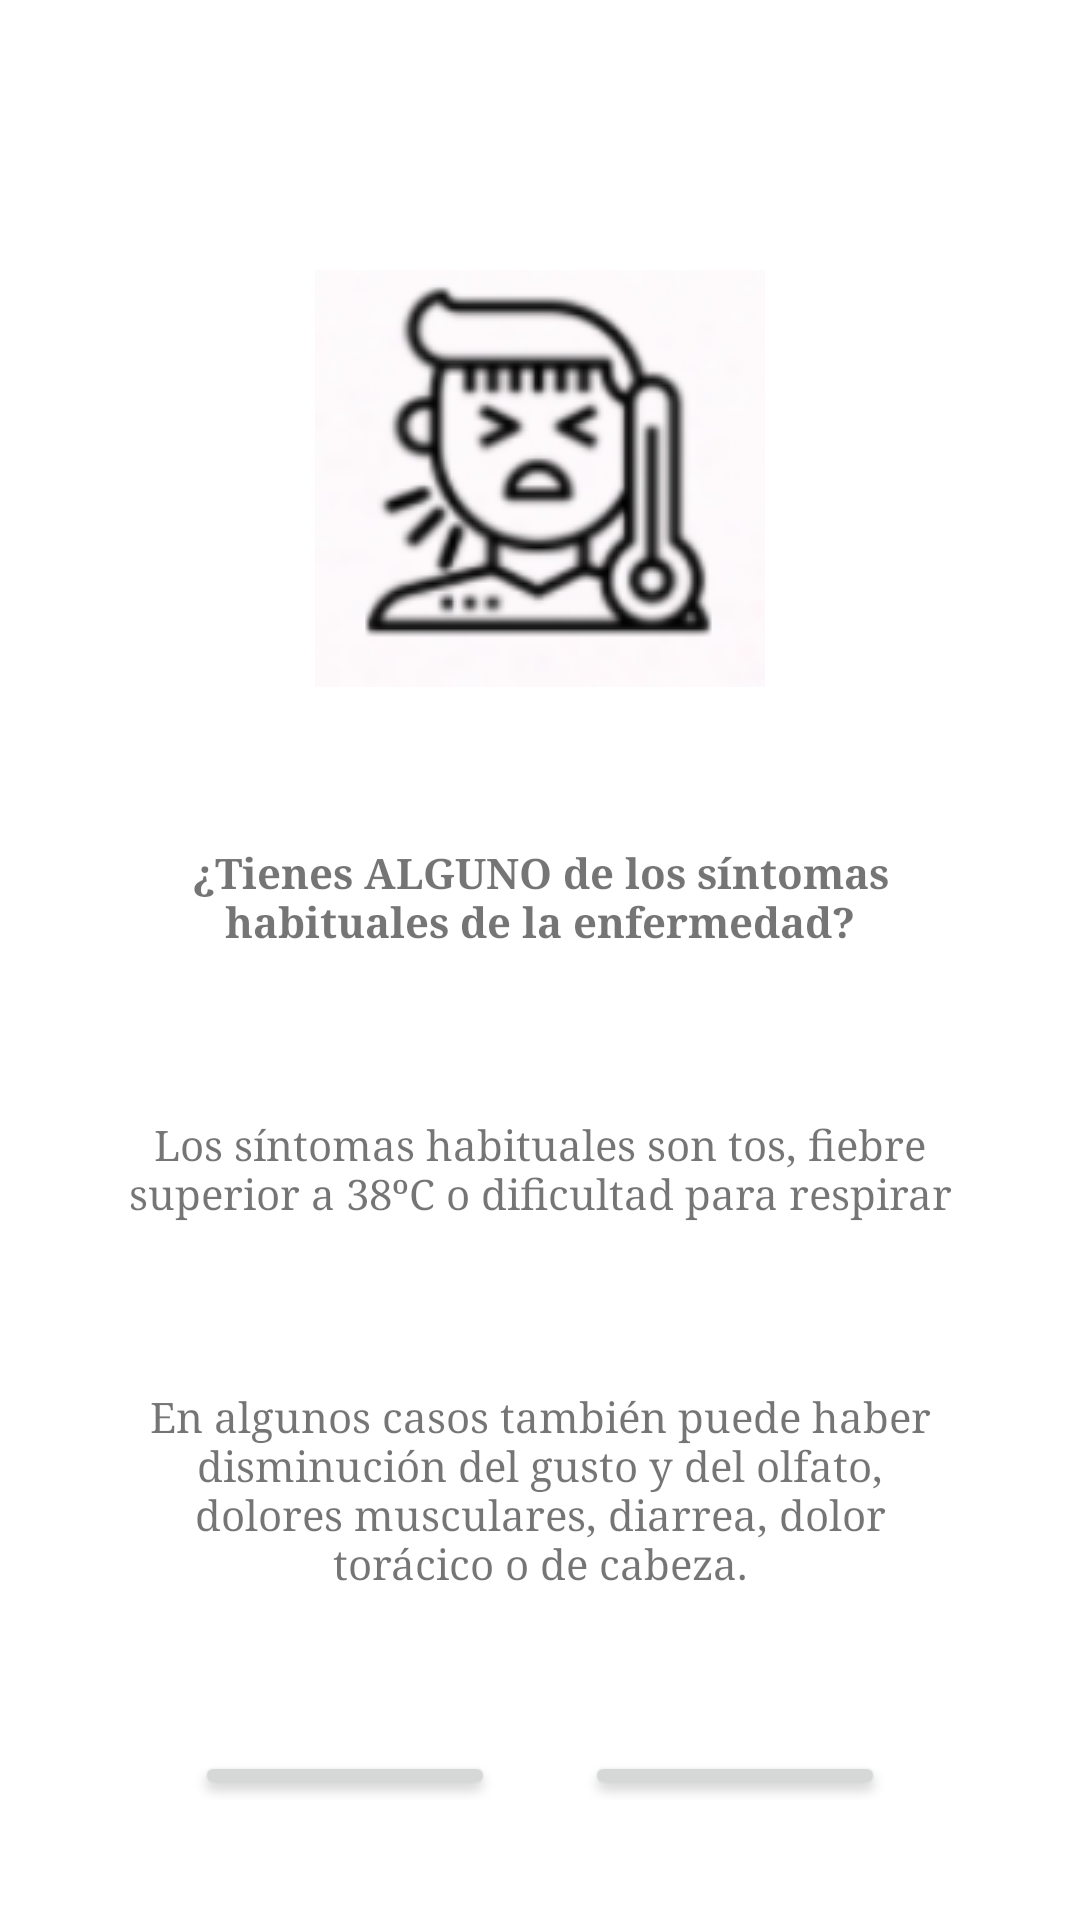

Icon bounding boxes for this 1080px x 1920px phone screenshot, format (x1, y1, x2, y2):
enfermo: (365, 287, 712, 636)
